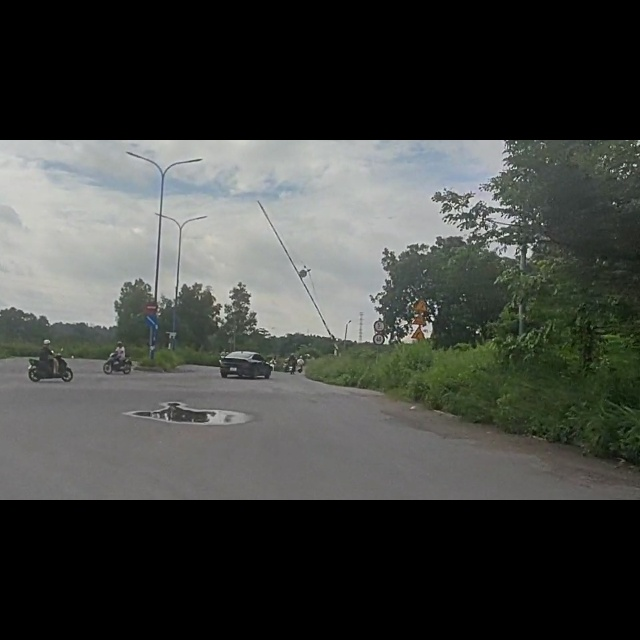bien_cam: (411, 328, 426, 359), (145, 307, 161, 333), (146, 283, 159, 309), (372, 343, 385, 364)
